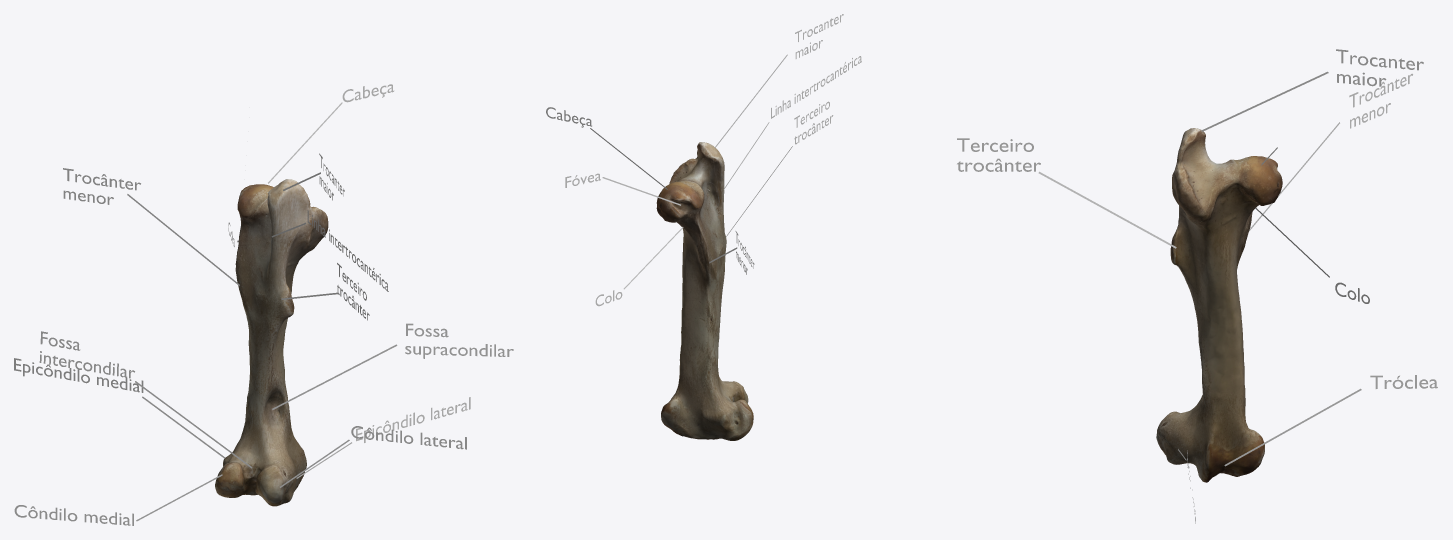
The model's file is Femur.glb.
3 views of the same model, side by side, from view 1: azimuth 30°, elevation 25°; view 2: azimuth 150°, elevation 25°; view 3: azimuth 270°, elevation 25° (orthographic). The views are drawn at different scales.
Parts seen in each view (by area): view 1: Mesh_0, Texto.034, Texto.050, Texto.047, Texto.055, Texto.066, Texto.058, Texto.044; view 2: Mesh_0, Texto.033, Texto.028; view 3: Mesh_0, Texto.013, Texto.063.
Boxes of the visible parts, x1,y1,x2,y2 form: Mesh_0: (215, 179, 328, 506); Texto.034: (405, 323, 513, 358); Texto.050: (14, 358, 143, 392); Texto.047: (39, 331, 134, 378); Texto.055: (14, 505, 133, 525); Texto.066: (63, 168, 140, 204); Texto.058: (356, 397, 470, 442); Texto.044: (351, 426, 466, 449); Mesh_0: (656, 142, 753, 440); Texto.033: (771, 56, 861, 118); Texto.028: (794, 101, 833, 144); Mesh_0: (1156, 128, 1282, 482); Texto.013: (957, 138, 1040, 171); Texto.063: (1336, 49, 1423, 86).
Bounding box in the file's own units: 2.43 × 2.51 × 2.71.
1 material, 1 textured.
